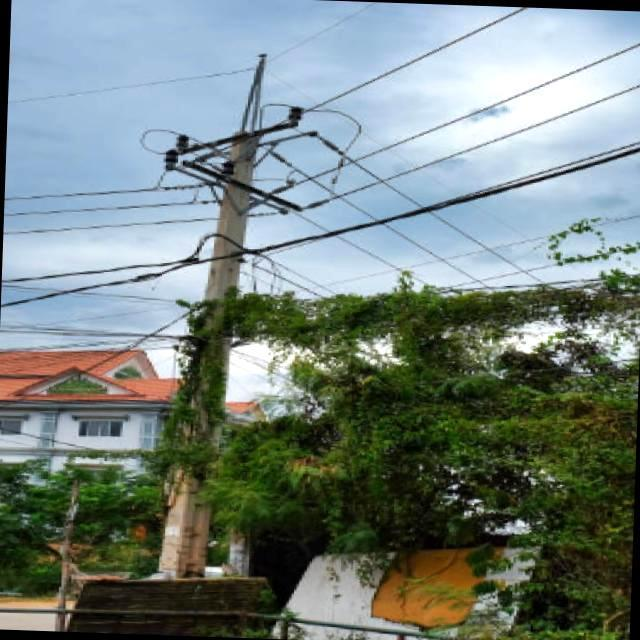critical vegetation: (167, 265, 258, 509)
